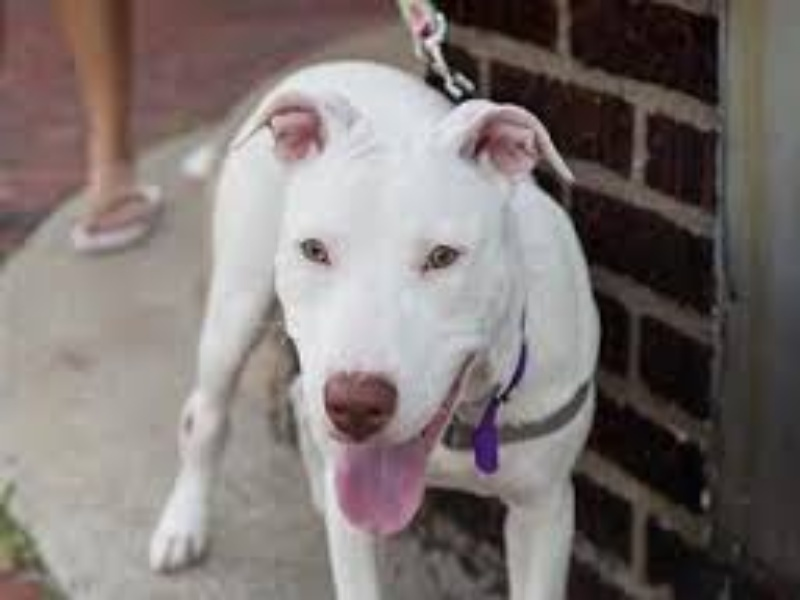dog: (146, 54, 609, 600)
